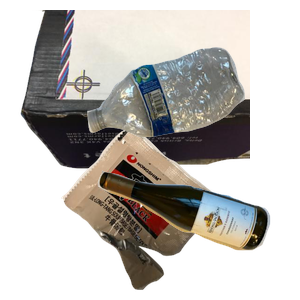cardboard: (18, 10, 258, 171)
glass: (95, 168, 300, 300)
plastic: (85, 45, 300, 175)
trash: (59, 124, 273, 300)
